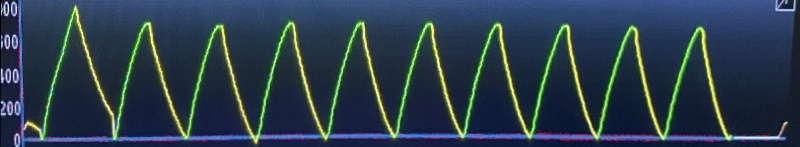normal_volume: (26, 9, 746, 143)
